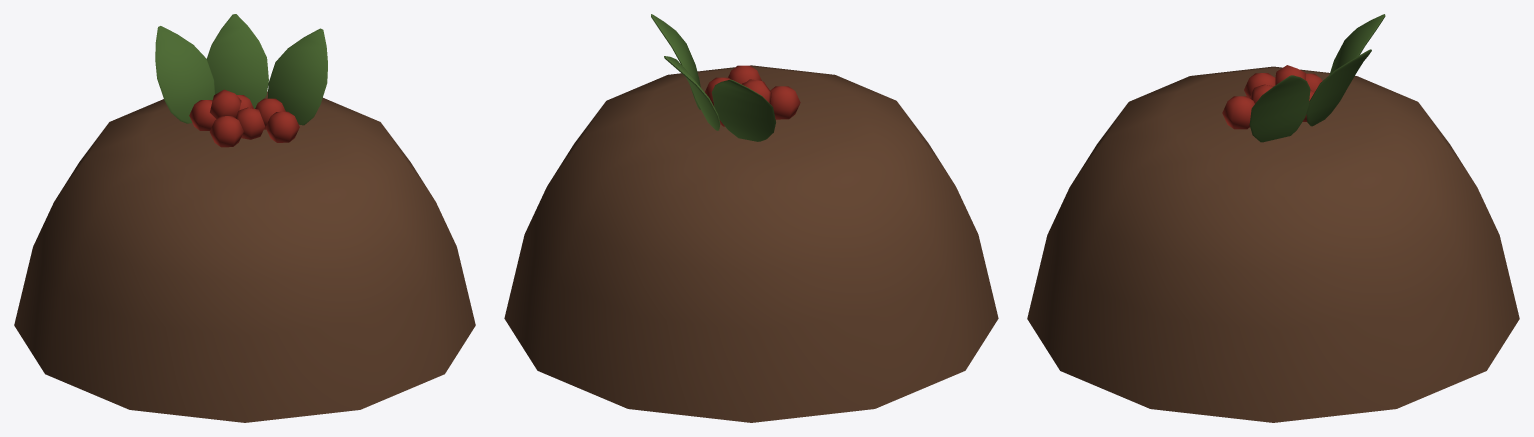
The model's file is ChristmasPudding_01.fbx.
The picture shows the model from 3 angles, left to right: view 1: azimuth 30°, elevation 25°; view 2: azimuth 150°, elevation 25°; view 3: azimuth 270°, elevation 25°; orthographic projection. The views are drawn at different scales.
Visible parts, largest first — view 1: ChristmasPudding_01; view 2: ChristmasPudding_01; view 3: ChristmasPudding_01.
Part boxes in pixels (x1,y1,x2,y2): ChristmasPudding_01: (14,14,475,422); ChristmasPudding_01: (504,14,998,422); ChristmasPudding_01: (1027,14,1519,422).
Bounding box in the file's own units: 0.3675 × 0.2367 × 0.3675.
